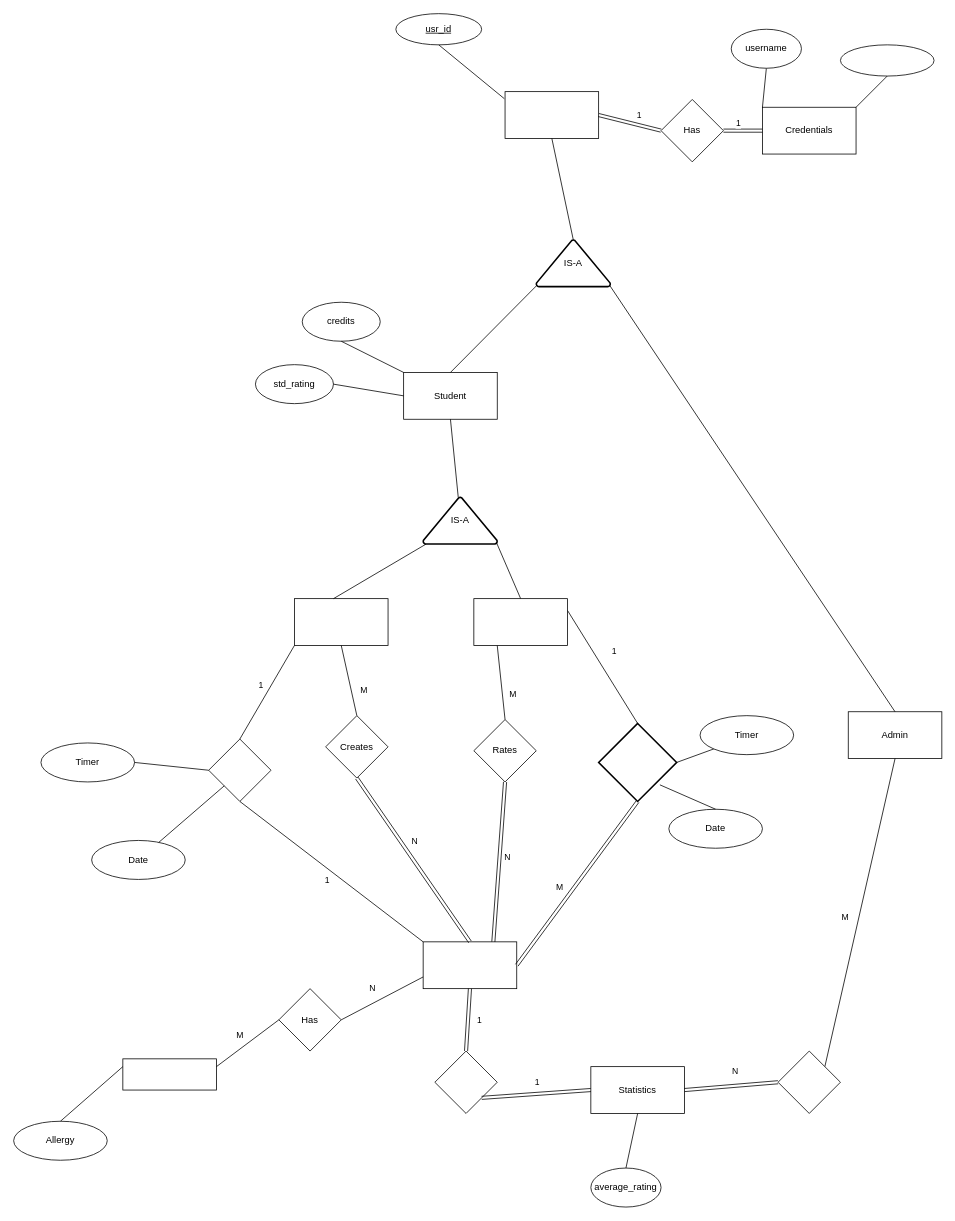
Some shapes in this 955 by 1221 pixel diagram are drawn without their labels. Each missing label, with the centre of its shape:
"Allergens" belongs at point (169, 1074).
"Cooker" belongs at point (341, 621).
"Deliveries" belongs at point (239, 769).
"Food_Ad" belongs at point (469, 965).
"Handle" belongs at point (808, 1081).
"password" belongs at point (887, 60).
"Receiver" belongs at point (520, 621).
"Request" belongs at point (637, 762).
"Update" belongs at point (465, 1081).
"User" belongs at point (551, 114).
